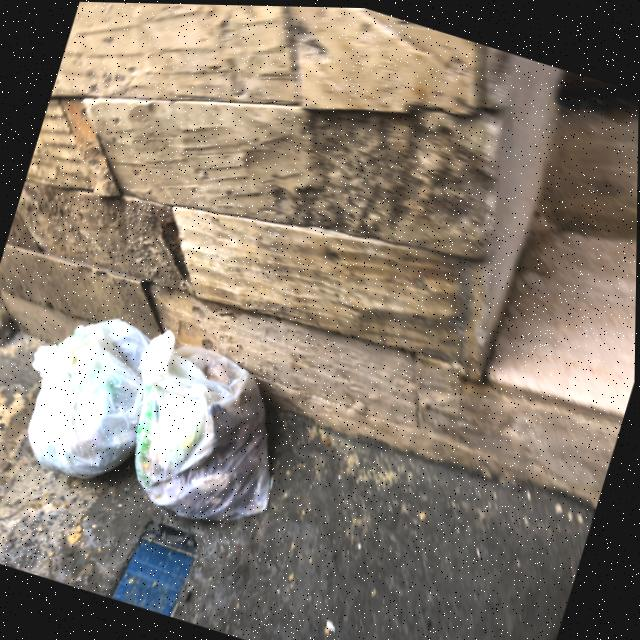Organic Waste -White Bag-: (104, 320, 314, 547), (1, 287, 171, 495)
